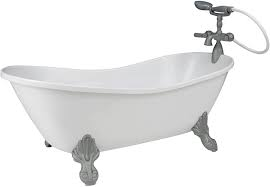bathub: (1, 52, 266, 187)
